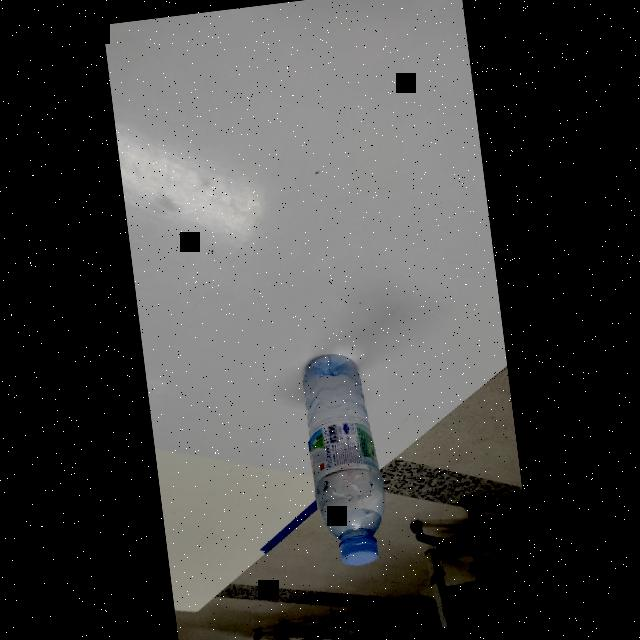plastic_bottle: (292, 347, 396, 578)
plastic_bottle_cap: (339, 534, 382, 570)
